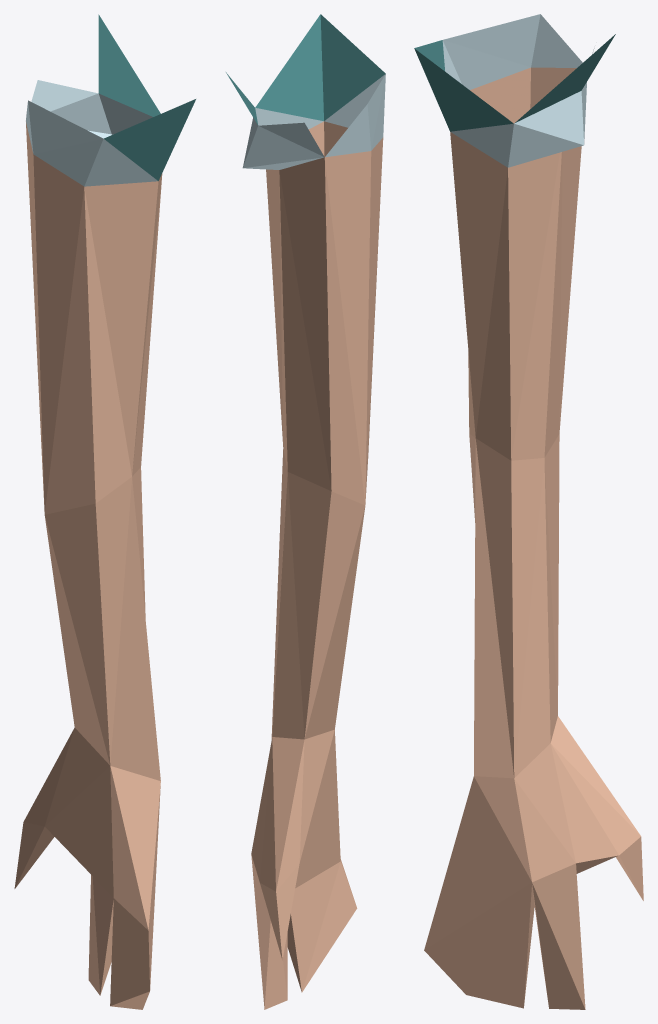
Rendered from ArmR_Lo.obj.
3 views of the same model, side by side, from view 1: azimuth 30°, elevation 25°; view 2: azimuth 150°, elevation 25°; view 3: azimuth 270°, elevation 25° (orthographic). The views are drawn at different scales.
Bounding box in the file's own units: 0.1198 × 0.8661 × 0.1817.
1 material, 1 textured.
